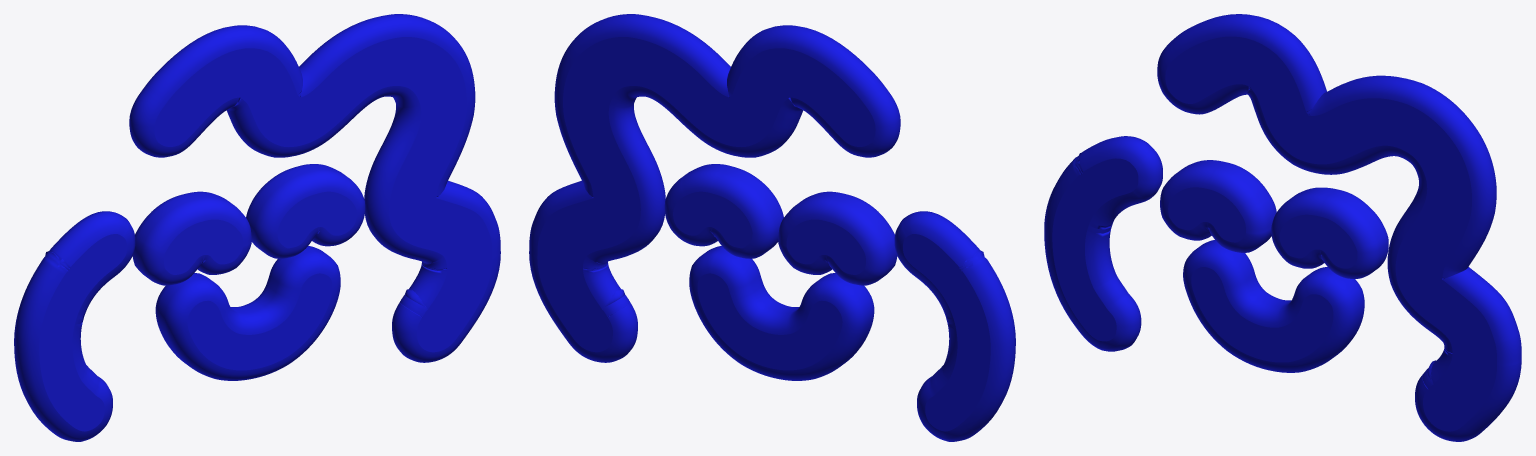
File: headericon3d.glb
3 renders of one model, left to right at view 1: azimuth 30°, elevation 25°; view 2: azimuth 150°, elevation 25°; view 3: azimuth 330°, elevation 25°, orthographic.
Visible parts, largest first — view 1: Curve.027, Curve.028, Curve.029, Curve.031, Curve.030; view 2: Curve.027, Curve.028, Curve.029, Curve.031, Curve.030; view 3: Curve.027, Curve.028, Curve.029, Curve.030, Curve.031.
Boxes of the visible parts, x1,y1,x2,y2 form: Curve.027: [129, 14, 500, 362]; Curve.028: [14, 211, 135, 441]; Curve.029: [155, 246, 340, 380]; Curve.031: [132, 191, 251, 285]; Curve.030: [246, 164, 365, 258]; Curve.027: [529, 14, 900, 362]; Curve.028: [894, 211, 1015, 441]; Curve.029: [689, 246, 874, 380]; Curve.031: [778, 191, 897, 285]; Curve.030: [664, 164, 783, 258]; Curve.027: [1157, 14, 1521, 441]; Curve.028: [1044, 136, 1162, 351]; Curve.029: [1183, 240, 1364, 372]; Curve.030: [1271, 187, 1388, 278]; Curve.031: [1160, 160, 1276, 252].
Bounding box in the file's own units: 0.1657 × 0.1252 × 0.014.
